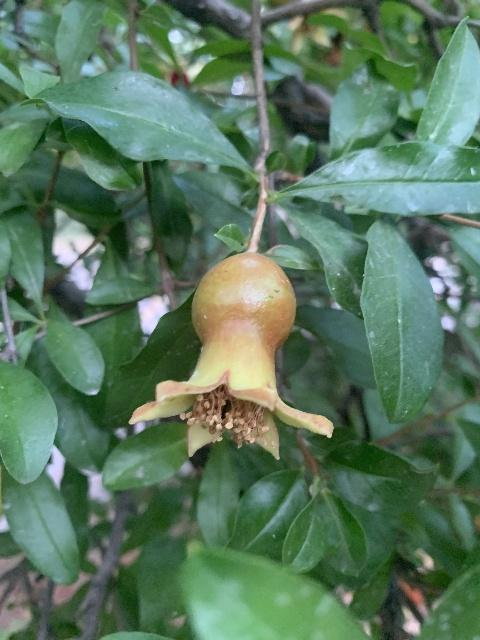early-fruit: (129, 251, 333, 462)
